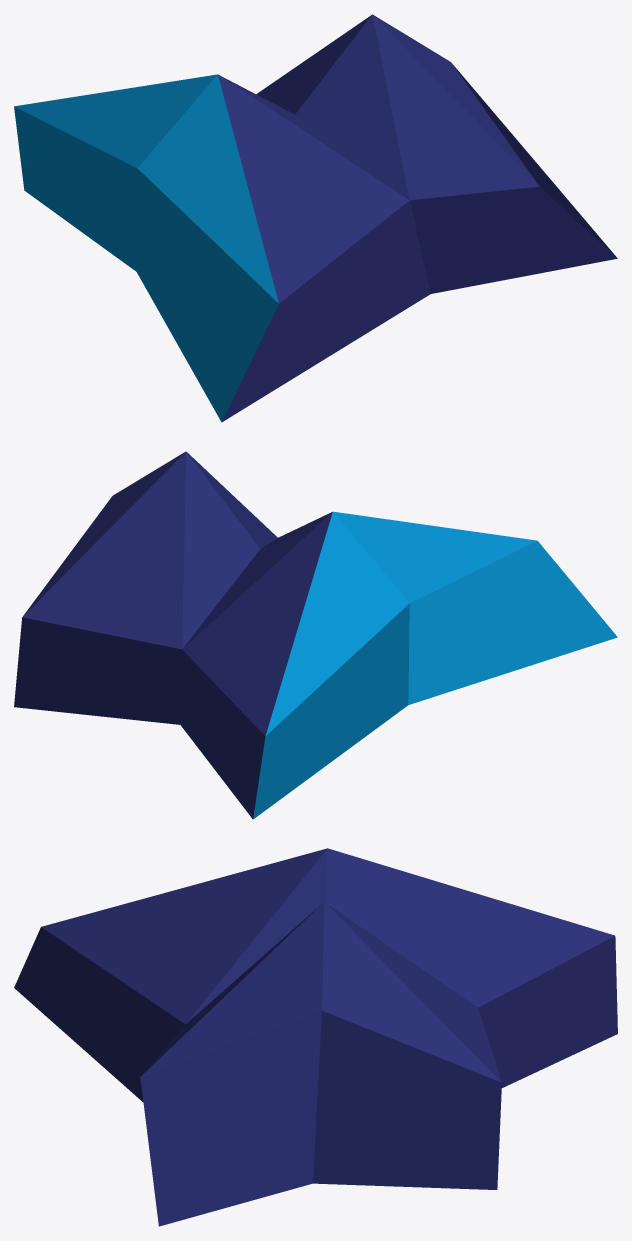
File: debris6.fbx
The picture shows the model from 3 angles, top to bottom: view 1: azimuth 30°, elevation 25°; view 2: azimuth 150°, elevation 25°; view 3: azimuth 270°, elevation 25°; orthographic projection. The views are drawn at different scales.
Parts seen in each view (by area): view 1: bike.002; view 2: bike.002; view 3: bike.002.
Part boxes in pixels (<box>): bike.002: <box>14,14,617,422</box>; bike.002: <box>14,451,617,819</box>; bike.002: <box>14,848,617,1226</box>.
Size of the model in its own units: 182 by 85.09 by 195.
